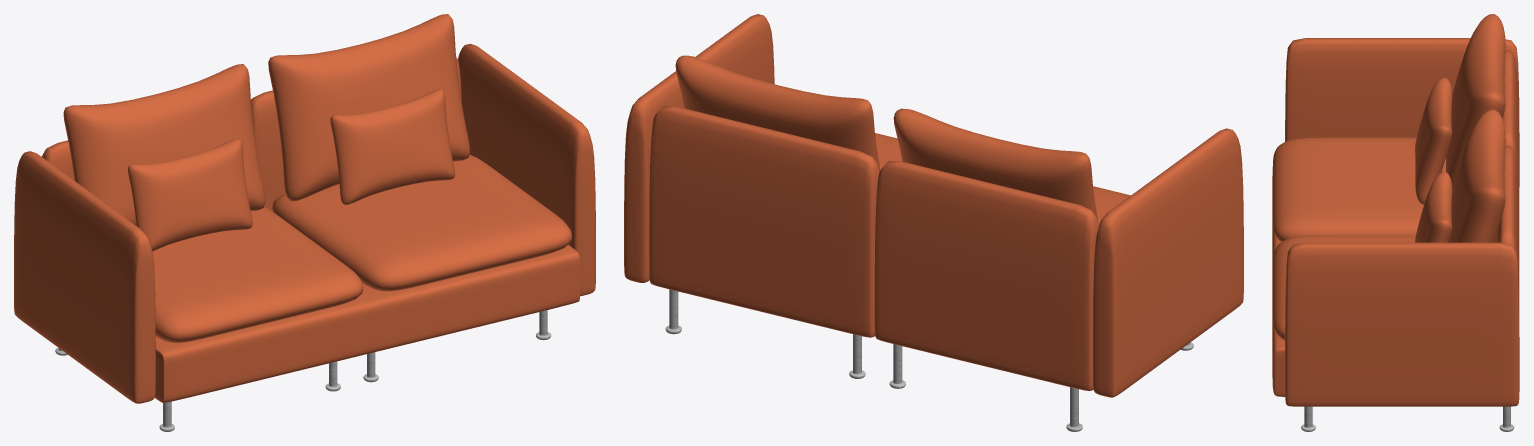
3 renders of one model, left to right at view 1: azimuth 30°, elevation 25°; view 2: azimuth 150°, elevation 25°; view 3: azimuth 270°, elevation 25°, orthographic. The views are drawn at different scales.
Visible parts, largest first — view 1: polySurface40.001; view 2: polySurface40.001; view 3: polySurface40.001.
Part boxes in pixels (x1=…): polySurface40.001: x1=14, y1=14, x2=595, y2=431; polySurface40.001: x1=624, y1=14, x2=1243, y2=431; polySurface40.001: x1=1272, y1=14, x2=1519, y2=431.
Size of the model in its own units: 1.22 by 0.6355 by 0.5922.
Materials: 1 (1 with a texture image).
